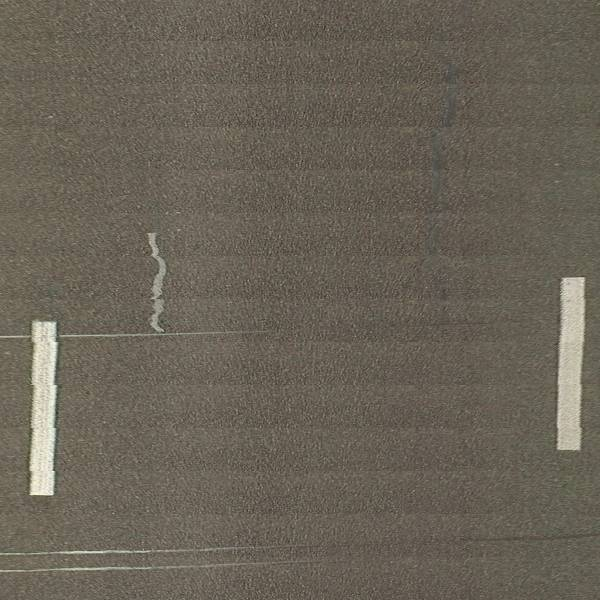road_damage: (423, 50, 459, 229), (140, 226, 173, 336), (21, 545, 308, 556)
